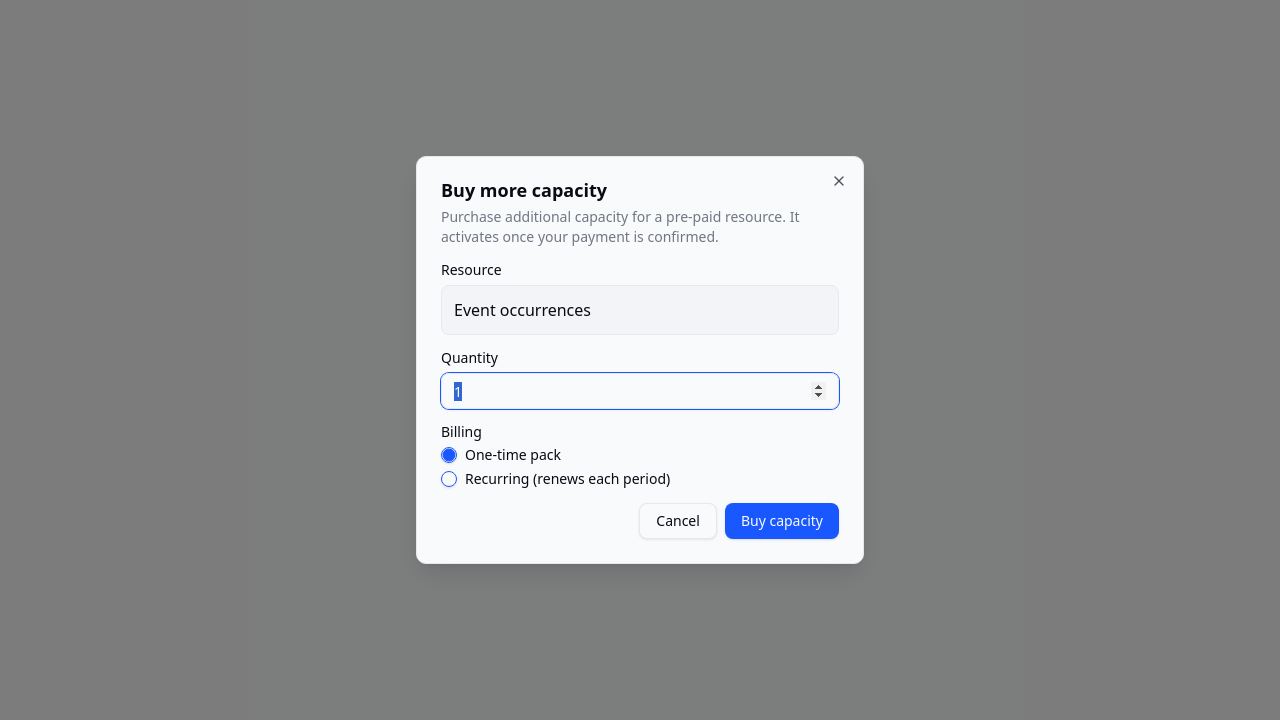
Test: PurchaseAddOnDialog › renders a clear message on a 400 AddOnNotPurchasableError
The width and height of the screenshot is (1280, 720).
Click the button with test id "purchase-add-on-submit": x=782, y=521 725,503 -> 839,539
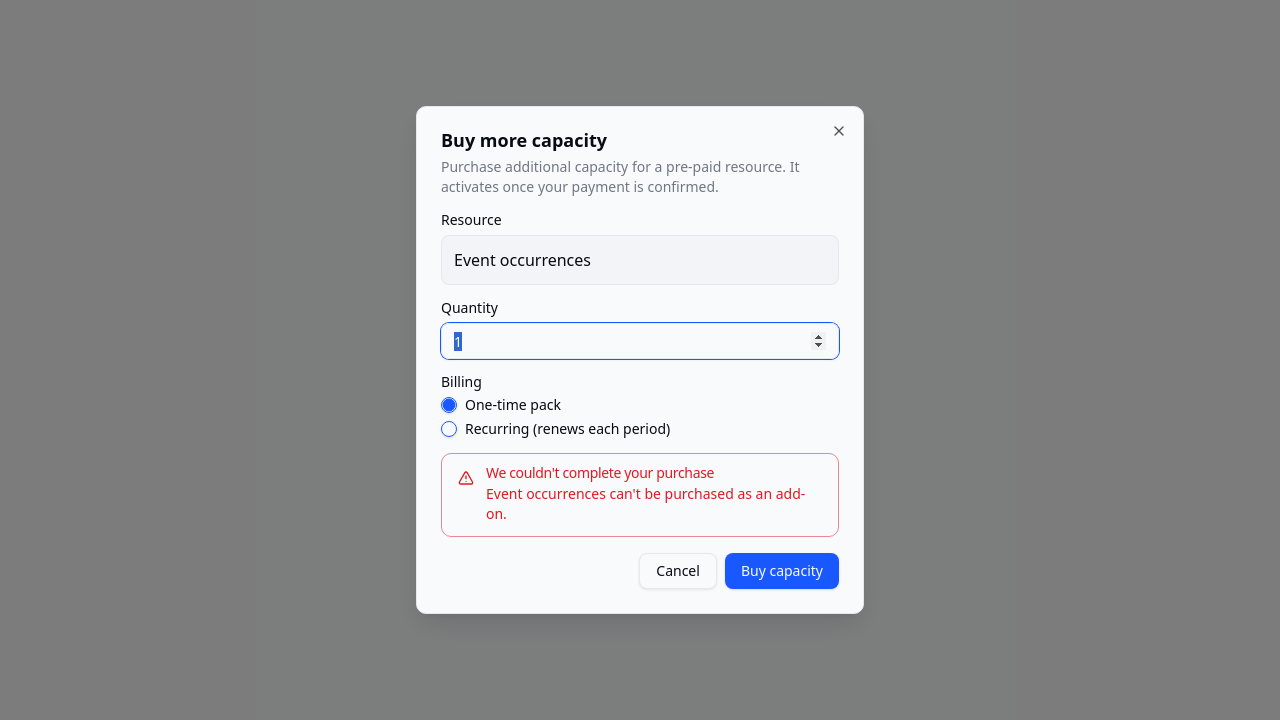
Now the message with test id "purchase-add-on-error" shows "can't be purchased as an add-on", box 486,484 -> 805,523
